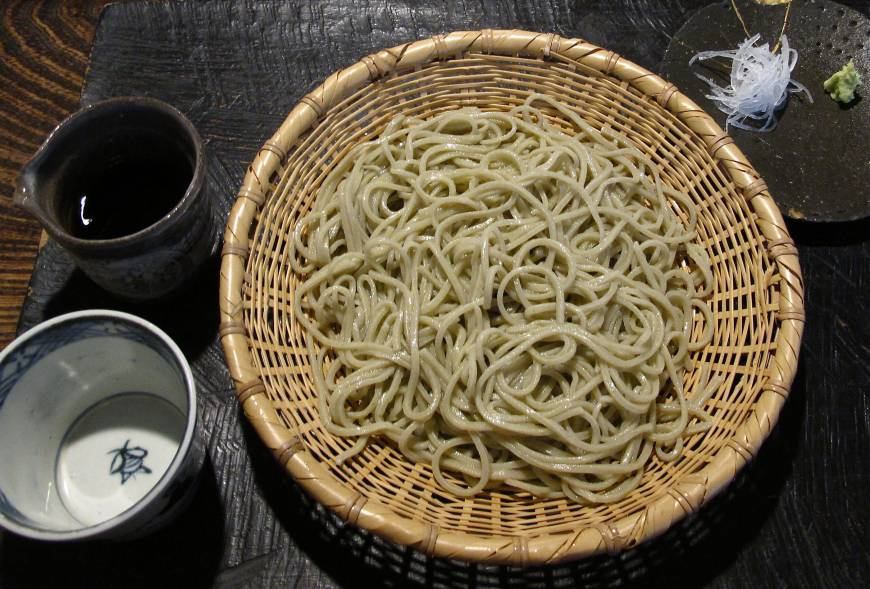Soba: (314, 100, 714, 502)
